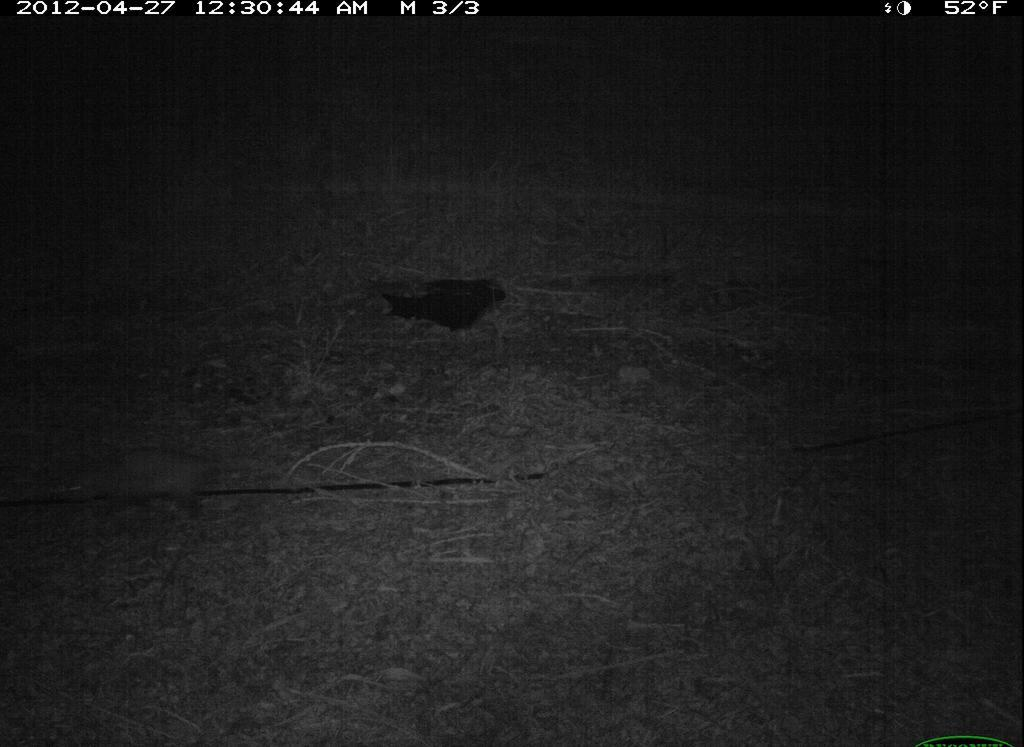opossum: (53, 432, 262, 532)
